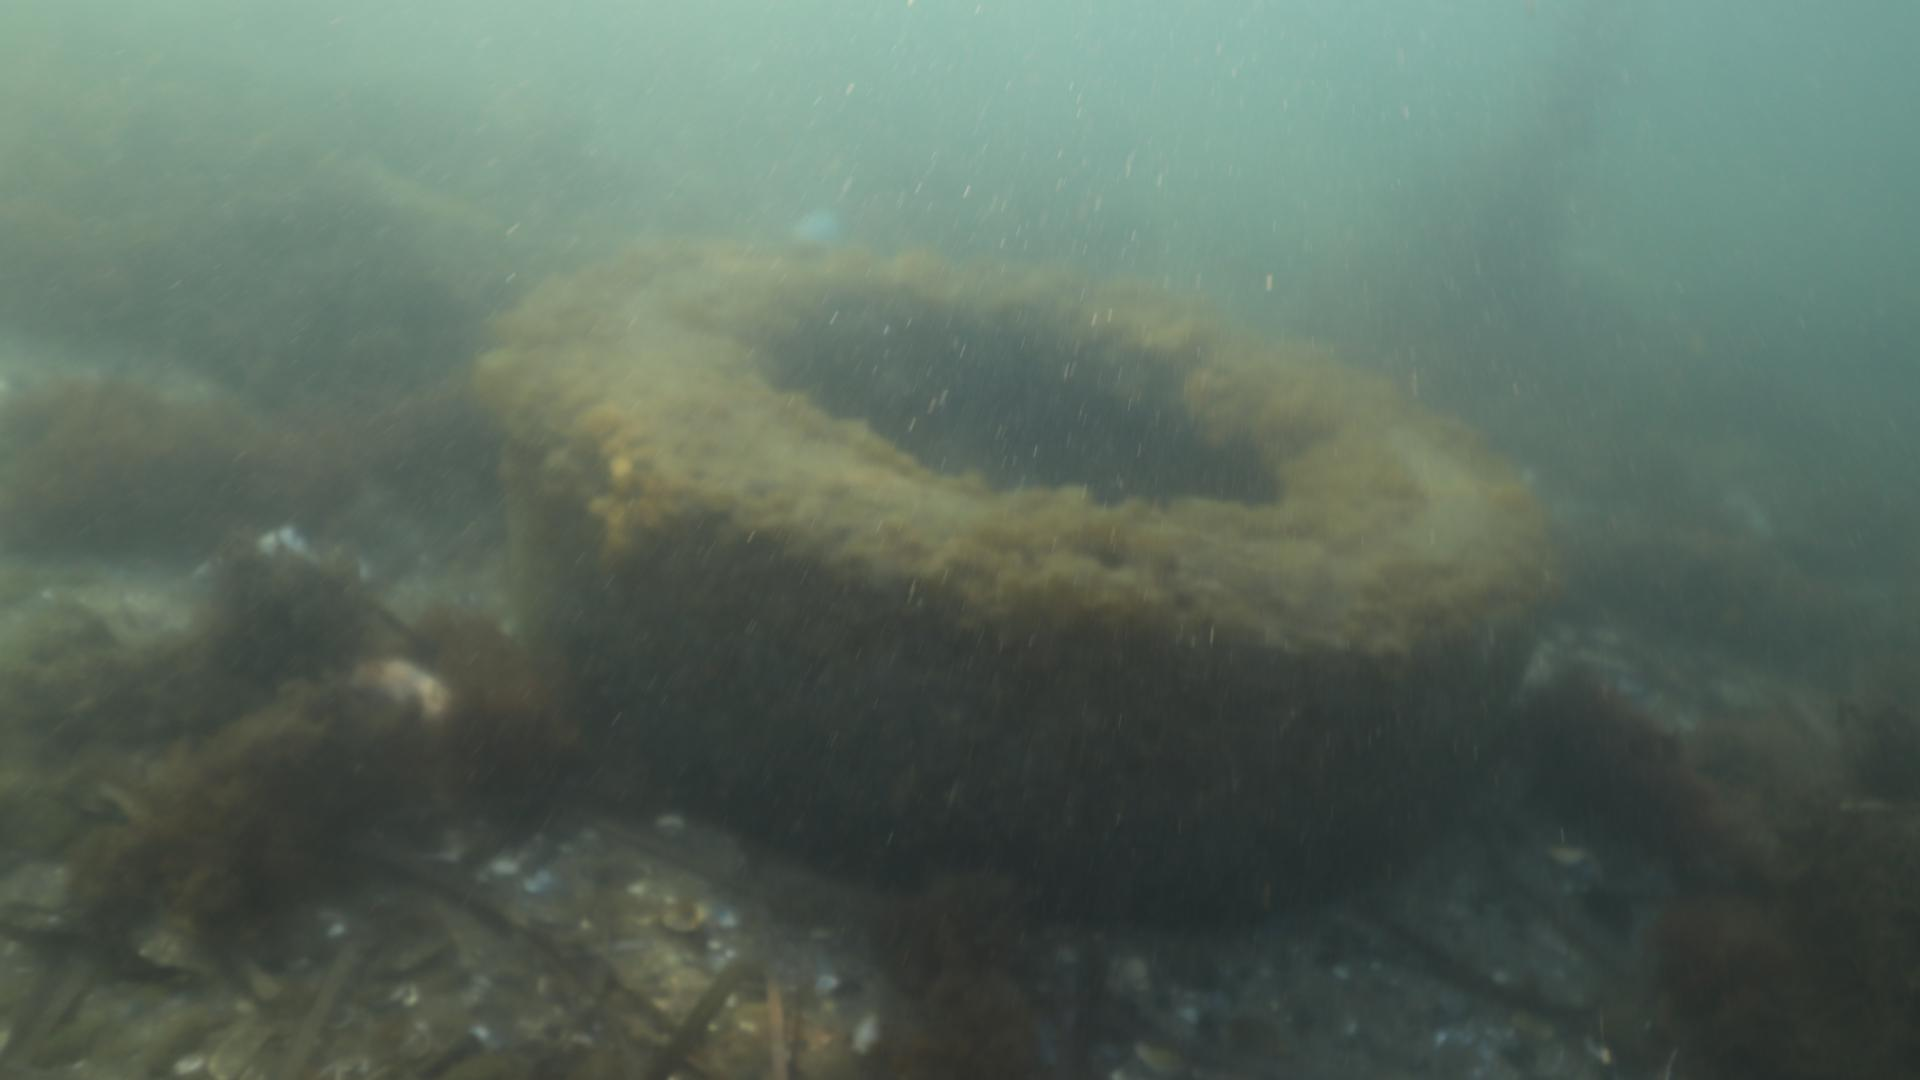tire: (498, 235, 1545, 886)
